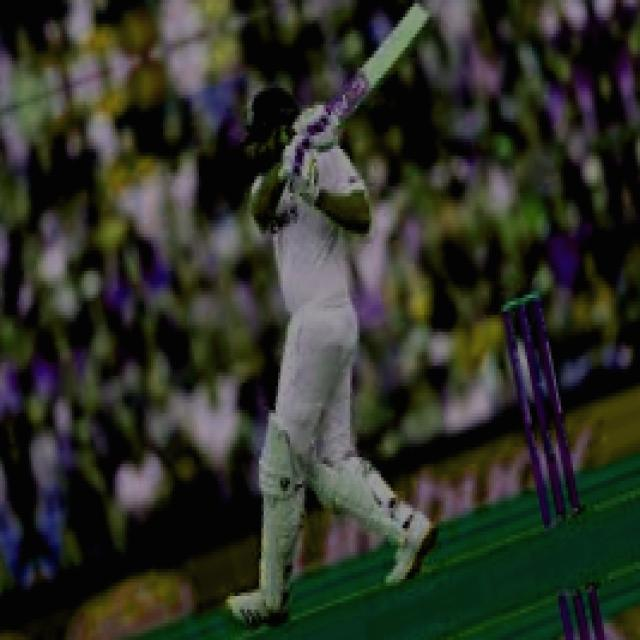toe: (396, 3, 436, 27)
